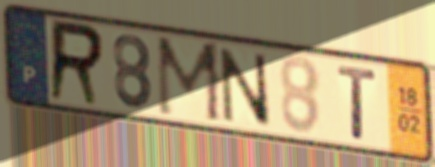8: (277, 54, 325, 139), (111, 33, 154, 111)
M: (153, 33, 225, 127)
N: (217, 45, 275, 131)
R: (46, 16, 107, 110)
T: (335, 62, 380, 144)
